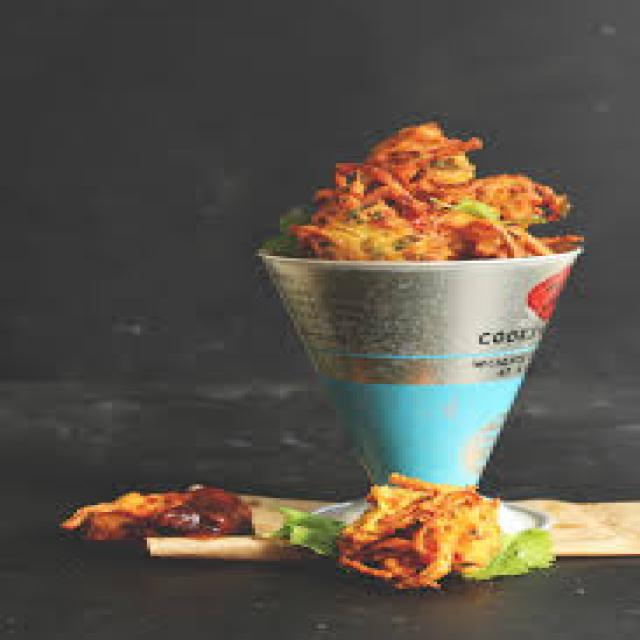BAJI: (271, 122, 565, 256), (319, 477, 498, 592), (67, 486, 176, 557)
